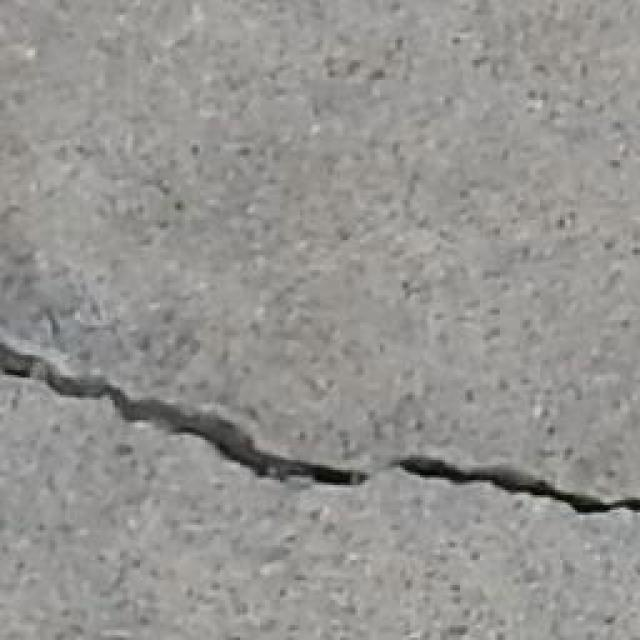concrete-crack: (0, 342, 640, 518), (0, 335, 372, 488)
